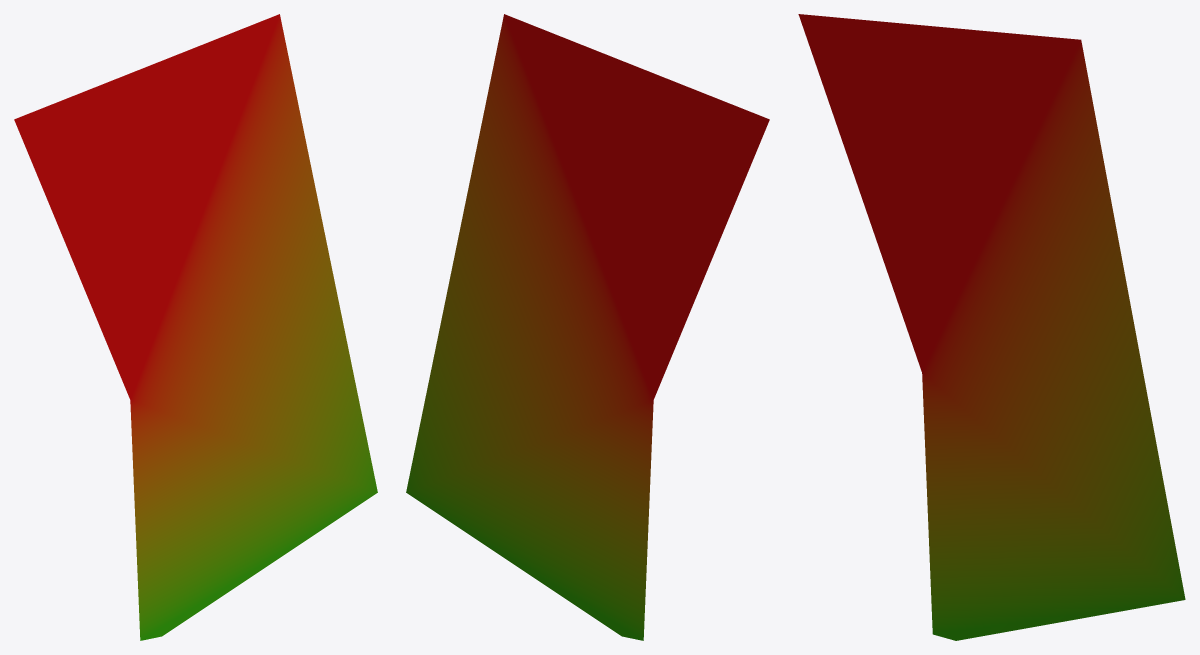
File: Carnation Weed_LOD3_Var1_smdpecor.fbx
3 views of the same model, side by side, from view 1: azimuth 30°, elevation 25°; view 2: azimuth 150°, elevation 25°; view 3: azimuth 330°, elevation 25° (orthographic). The views are drawn at different scales.
Visible parts, largest first — view 1: _a776_Var1_LOD3; view 2: _a776_Var1_LOD3; view 3: _a776_Var1_LOD3.
Part boxes in pixels (<box>): _a776_Var1_LOD3: <box>14,14,377,640</box>; _a776_Var1_LOD3: <box>406,14,769,640</box>; _a776_Var1_LOD3: <box>798,14,1185,640</box>.
Bounding box in the file's own units: 20.63 × 32.16 × 2.86e-06.
